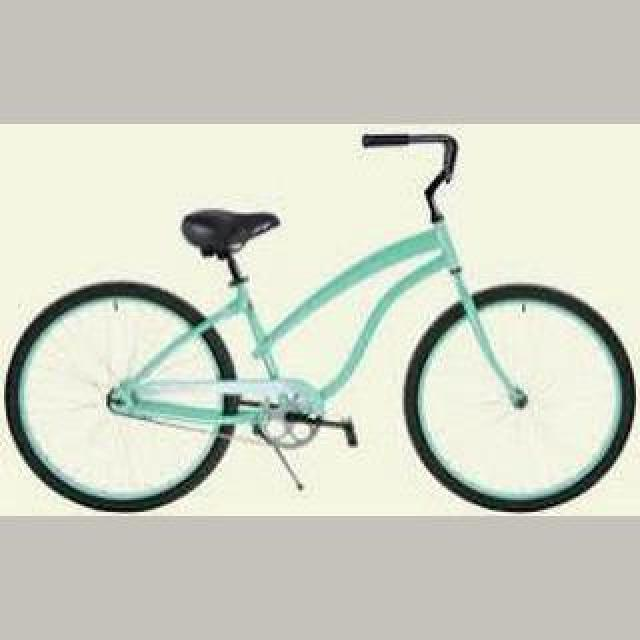Person: (0, 124, 640, 512)
